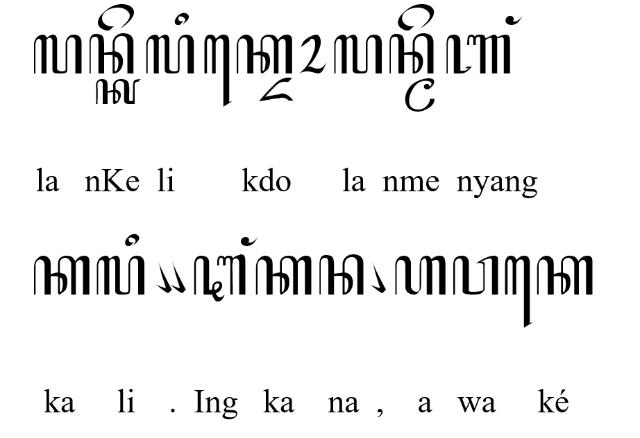I: (194, 254, 246, 302)
K: (96, 78, 140, 106)
_d: (258, 76, 294, 104)
_m: (404, 78, 436, 112)
e: (397, 3, 435, 31), (98, 4, 134, 30)
e1: (504, 256, 534, 330), (204, 34, 232, 108)
h: (394, 256, 448, 295)
i: (174, 12, 190, 26), (124, 233, 140, 247)
k: (255, 255, 313, 296), (536, 255, 594, 296), (34, 255, 90, 297), (236, 34, 294, 74)
kom: (154, 260, 172, 294), (170, 260, 186, 294), (370, 262, 386, 294)
l: (96, 255, 146, 296), (333, 34, 382, 74), (34, 34, 82, 74), (145, 36, 195, 74)
n: (319, 255, 365, 297), (389, 34, 435, 74), (90, 34, 134, 74)
ng: (504, 16, 522, 26), (240, 236, 258, 246)
ny1: (446, 34, 510, 74)
o: (300, 34, 326, 74)
w: (452, 254, 498, 296)
